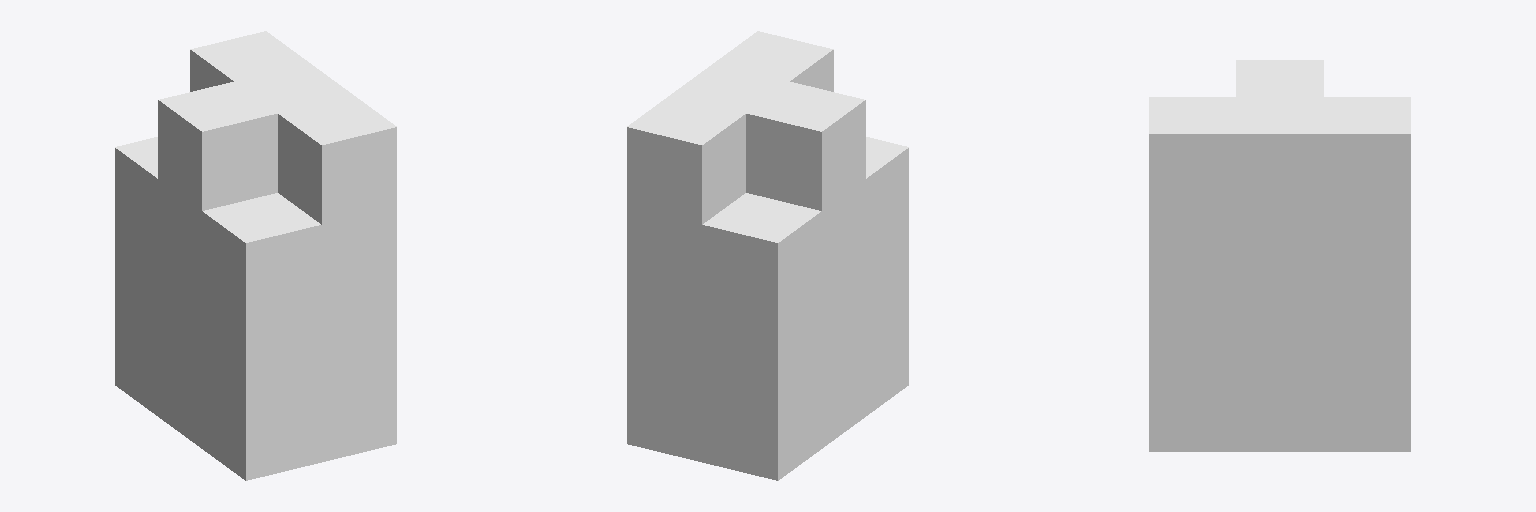
Rendered from bunker2_1.obj.
The picture shows the model from 3 angles: view 1: azimuth 30°, elevation 25°; view 2: azimuth 150°, elevation 25°; view 3: azimuth 270°, elevation 25°; orthographic projection.
Parts seen in each view (by area): view 1: bunker2_1; view 2: bunker2_1; view 3: bunker2_1.
Boxes of the visible parts, box(x1,y1,x2,y2) form: bunker2_1: box(115, 31, 396, 480); bunker2_1: box(627, 31, 908, 480); bunker2_1: box(1149, 60, 1410, 451).
Size of the model in its own units: 2 by 4 by 3.